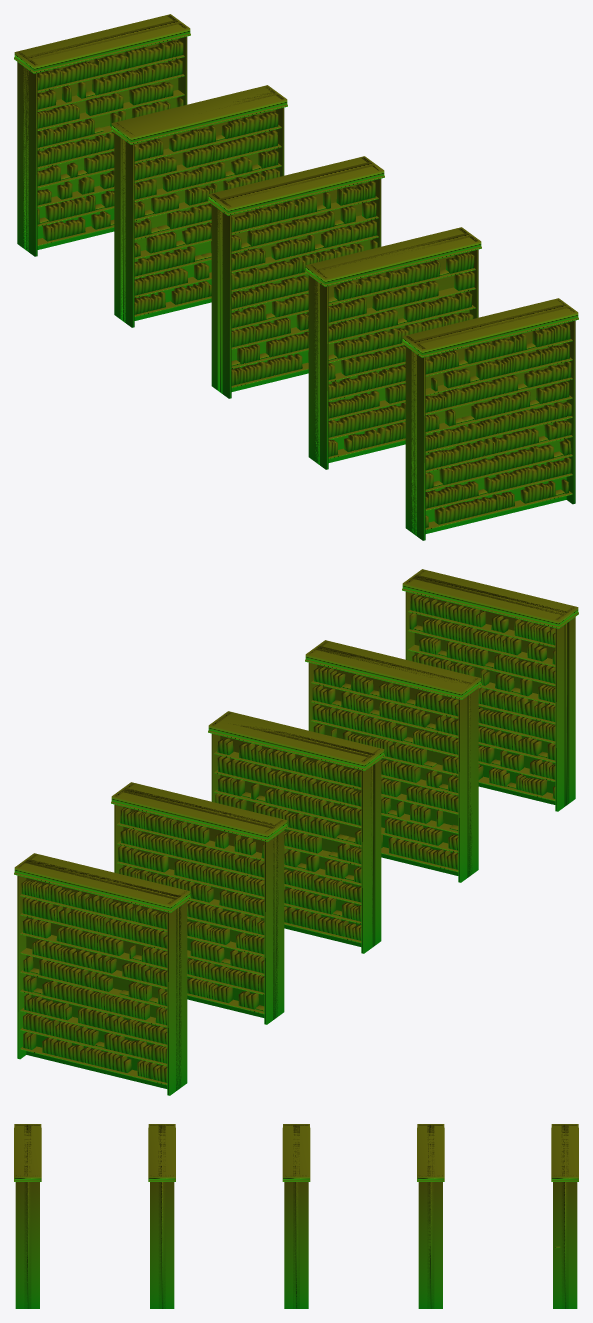
File: ansedra_archive_stacks_w.glb
The picture shows the model from 3 angles, top to bottom: view 1: azimuth 30°, elevation 25°; view 2: azimuth 150°, elevation 25°; view 3: azimuth 270°, elevation 25°; orthographic projection. The views are drawn at different scales.
Parts seen in each view (by area): view 1: ansedra_archive_stacks_w; view 2: ansedra_archive_stacks_w; view 3: ansedra_archive_stacks_w.
Boxes of the visible parts, left/top/right/bottom form: ansedra_archive_stacks_w: left=14, top=14, right=578, bottom=540; ansedra_archive_stacks_w: left=14, top=569, right=578, bottom=1095; ansedra_archive_stacks_w: left=14, top=1124, right=578, bottom=1308.
Size of what is drawn, in the model's own units: 5.14 by 5.99 by 23.14.
